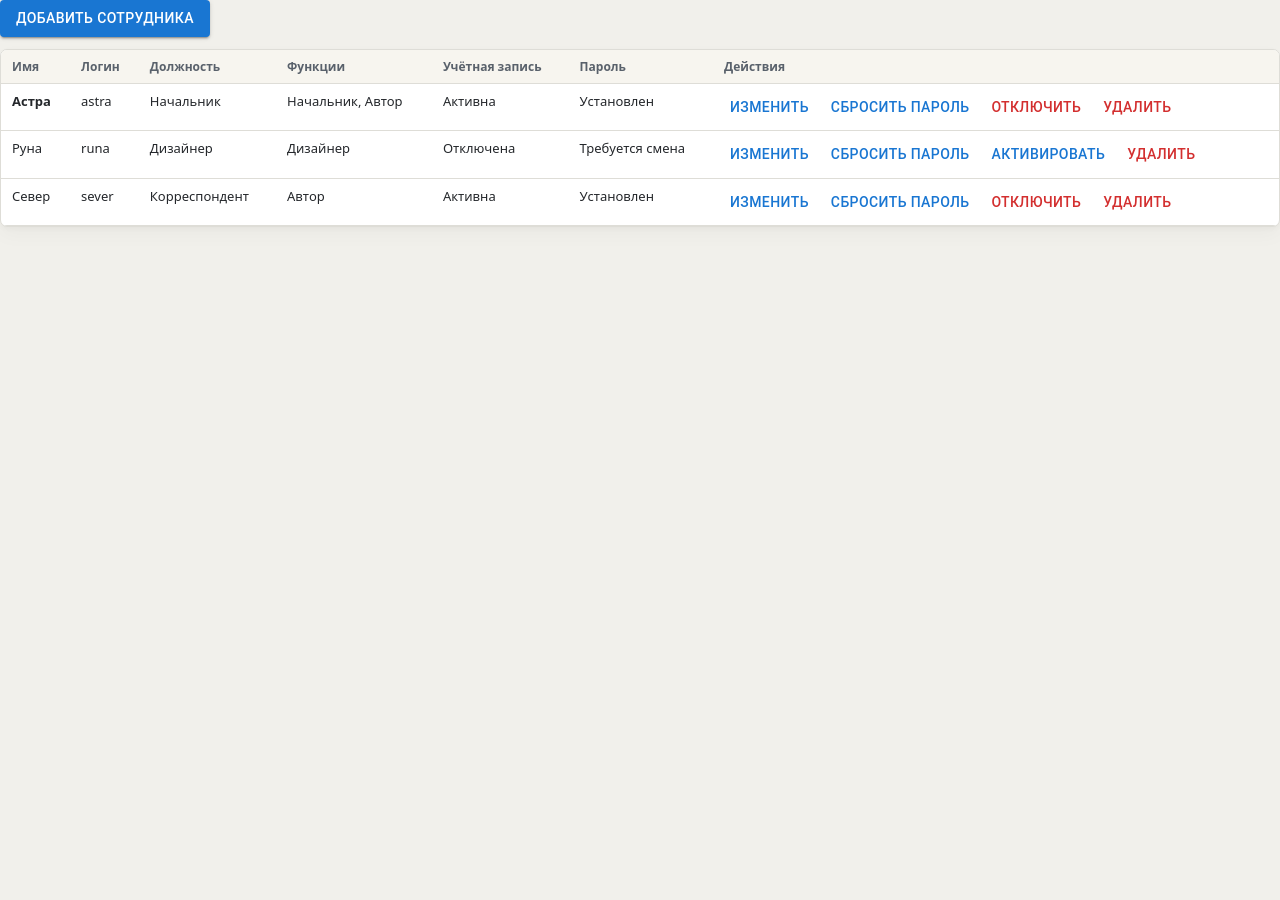
Test: AdminUsersManager › keeps the edit dialog and all values open after a conflict
Expected: the cell "Астра" is shown, [1,83,70,131]
Click the button with aria-label "Изменить Астра".
click(769, 107)  # box [724,92,815,122]
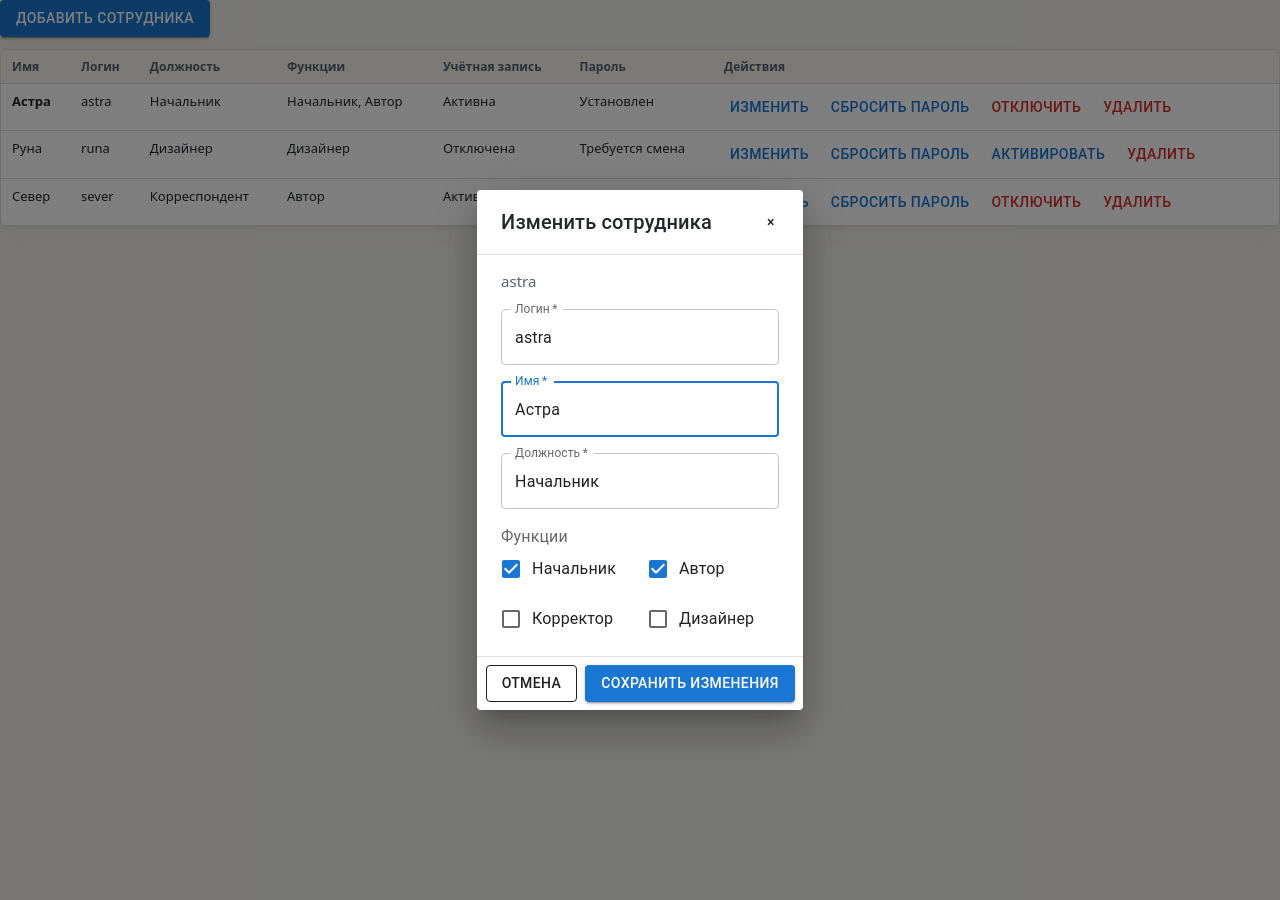
Replace the text in the field labelled "Логин" with "astra-new" at x=640, y=337, box [501,309,779,365]
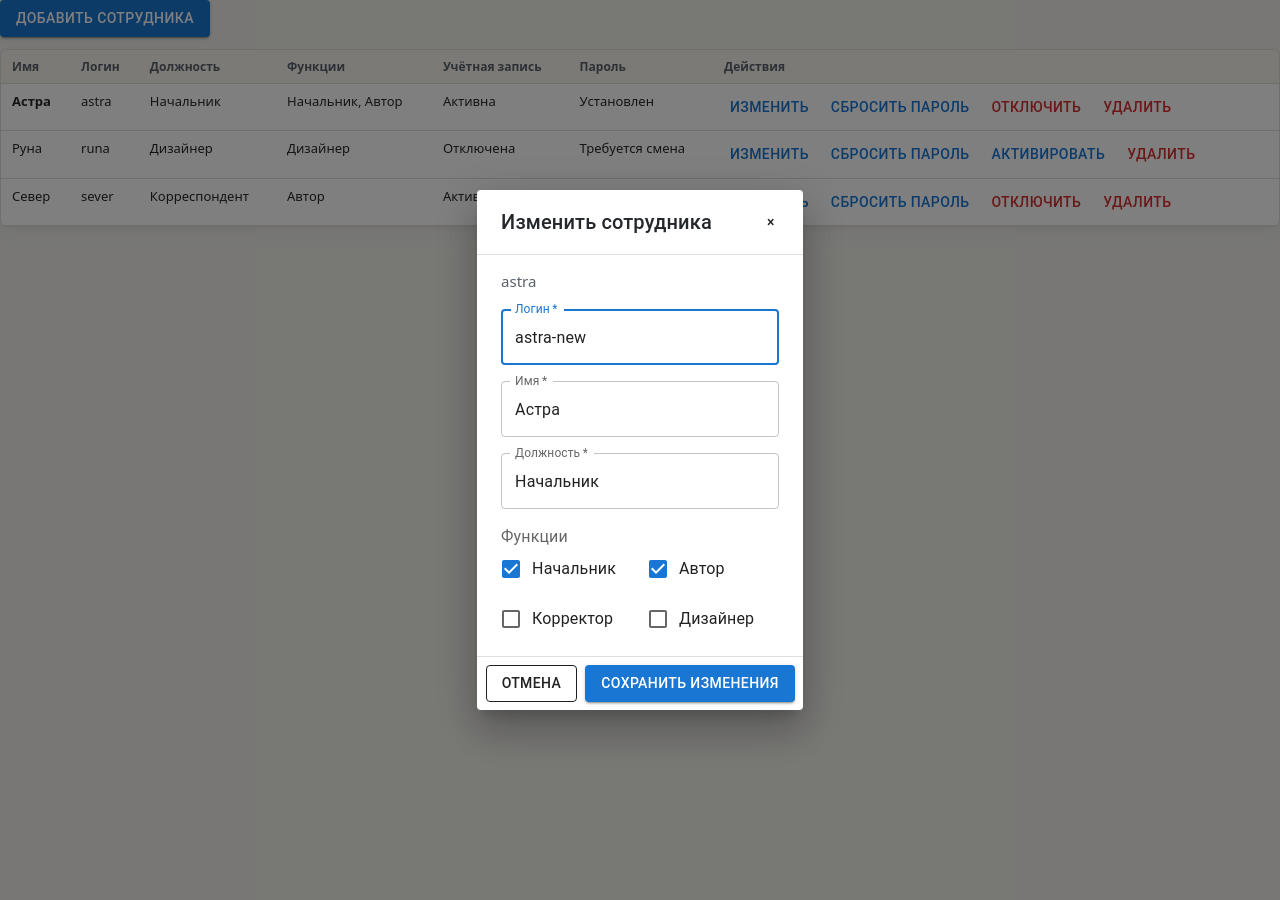
Replace the text in the field labelled "Имя" with "Астра новая" at x=640, y=409, box [501,381,779,437]
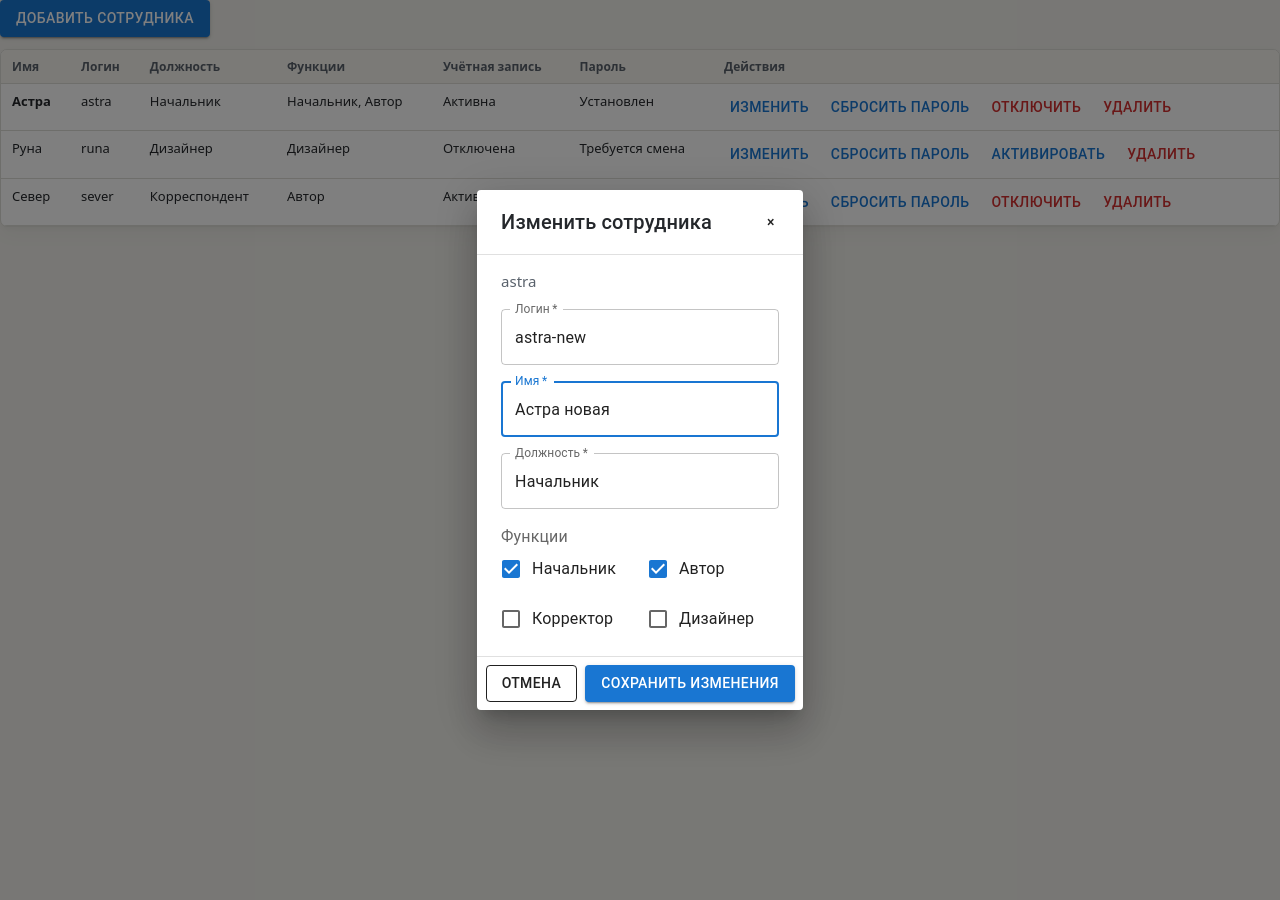
Click the button "Сохранить изменения".
click(690, 683)  # box [585,665,795,702]
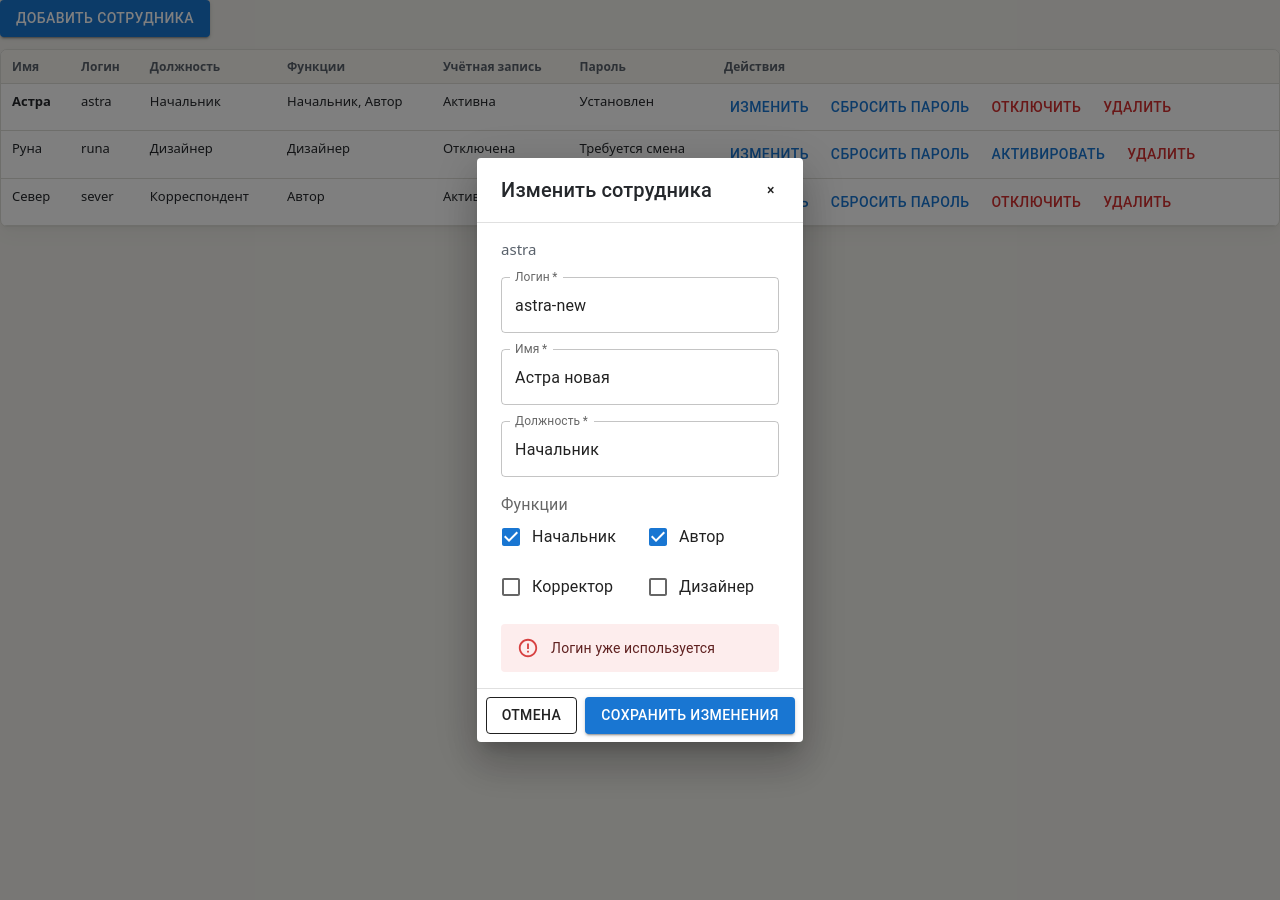
Expected: the field labelled "Должность" holds "Начальник", [501,421,779,477]
Expected: the checkbox labelled "Начальник" is checked, [499,525,616,549]
Expected: the message reads "Логин уже используется", [551,640,715,656]
